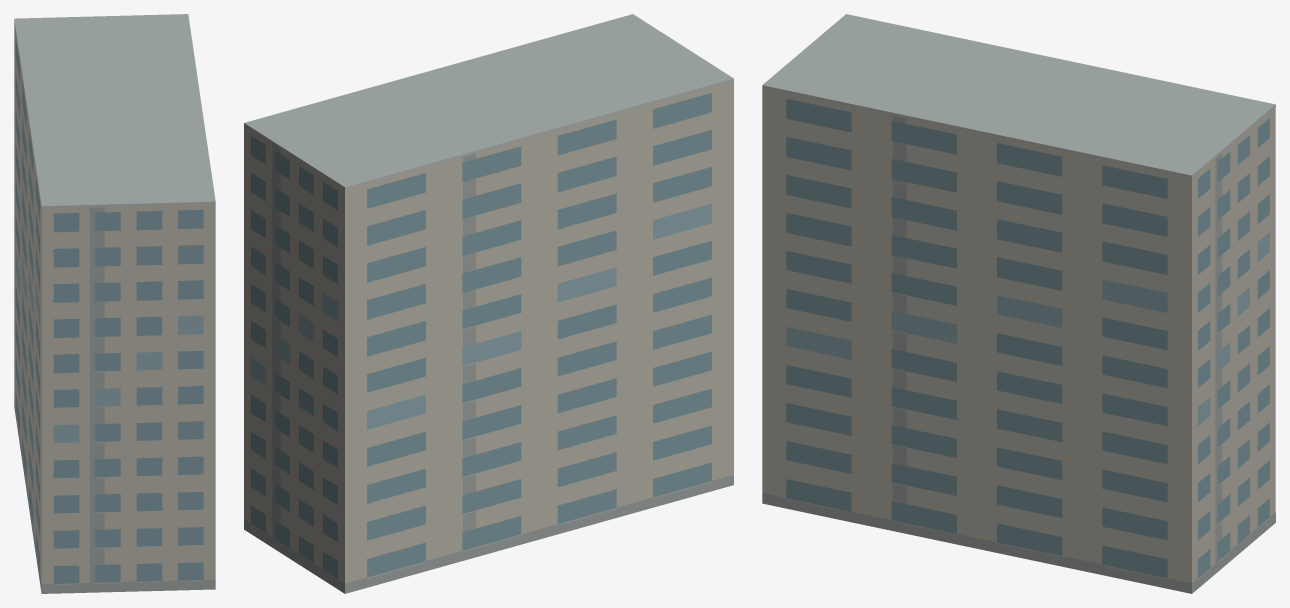
The model's file is residential-ea808395-9671-4b08-a851-67926aa30ddd.glb.
3 renders of one model, left to right at view 1: azimuth 30°, elevation 25°; view 2: azimuth 150°, elevation 25°; view 3: azimuth 270°, elevation 25°, orthographic. The views are drawn at different scales.
Visible parts, largest first — view 1: residential-ea808395-9671-4b08-a851-67926aa30ddd.tmp; view 2: residential-ea808395-9671-4b08-a851-67926aa30ddd.tmp; view 3: residential-ea808395-9671-4b08-a851-67926aa30ddd.tmp.
Part boxes in pixels (x1,y1,x2,y2): residential-ea808395-9671-4b08-a851-67926aa30ddd.tmp: (14, 14, 215, 593); residential-ea808395-9671-4b08-a851-67926aa30ddd.tmp: (244, 14, 733, 593); residential-ea808395-9671-4b08-a851-67926aa30ddd.tmp: (762, 14, 1275, 593).
Size of the model in its own units: 29 by 35 by 38.95.
